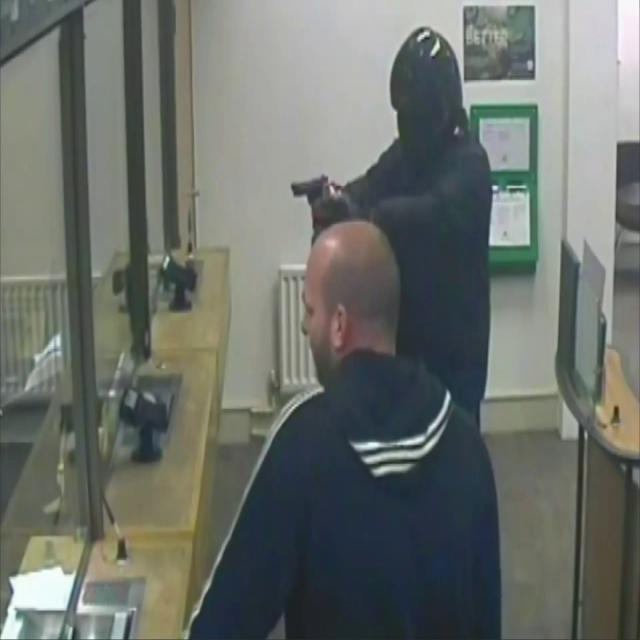gun: (290, 174, 330, 222)
